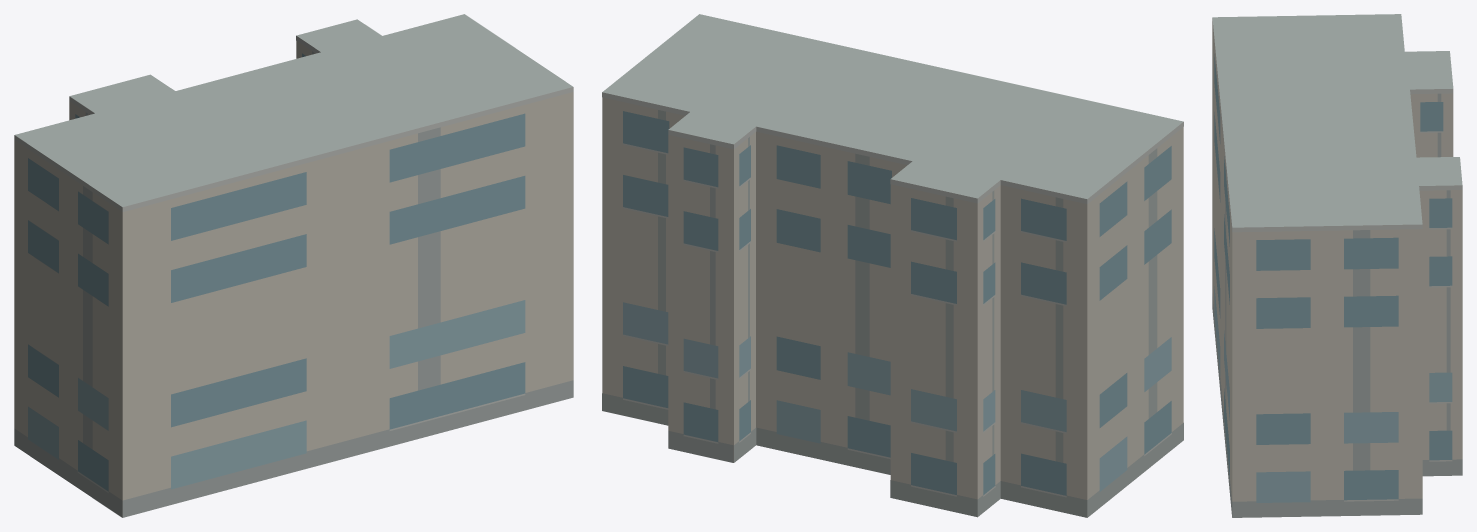
File: residential-4f55a12c-b486-4f5a-a4d1-25daf25e8451.glb
The picture shows the model from 3 angles, left to right: view 1: azimuth 30°, elevation 25°; view 2: azimuth 150°, elevation 25°; view 3: azimuth 270°, elevation 25°; orthographic projection. The views are drawn at different scales.
Parts seen in each view (by area): view 1: residential-4f55a12c-b486-4f5a-a4d1-25daf25e8451.tmp; view 2: residential-4f55a12c-b486-4f5a-a4d1-25daf25e8451.tmp; view 3: residential-4f55a12c-b486-4f5a-a4d1-25daf25e8451.tmp.
Boxes of the visible parts, left/top/right/bottom form: residential-4f55a12c-b486-4f5a-a4d1-25daf25e8451.tmp: left=14, top=14, right=573, bottom=517; residential-4f55a12c-b486-4f5a-a4d1-25daf25e8451.tmp: left=602, top=14, right=1183, bottom=517; residential-4f55a12c-b486-4f5a-a4d1-25daf25e8451.tmp: left=1212, top=14, right=1462, bottom=517.
Size of the model in its own units: 24.09 by 15.25 by 11.92.
